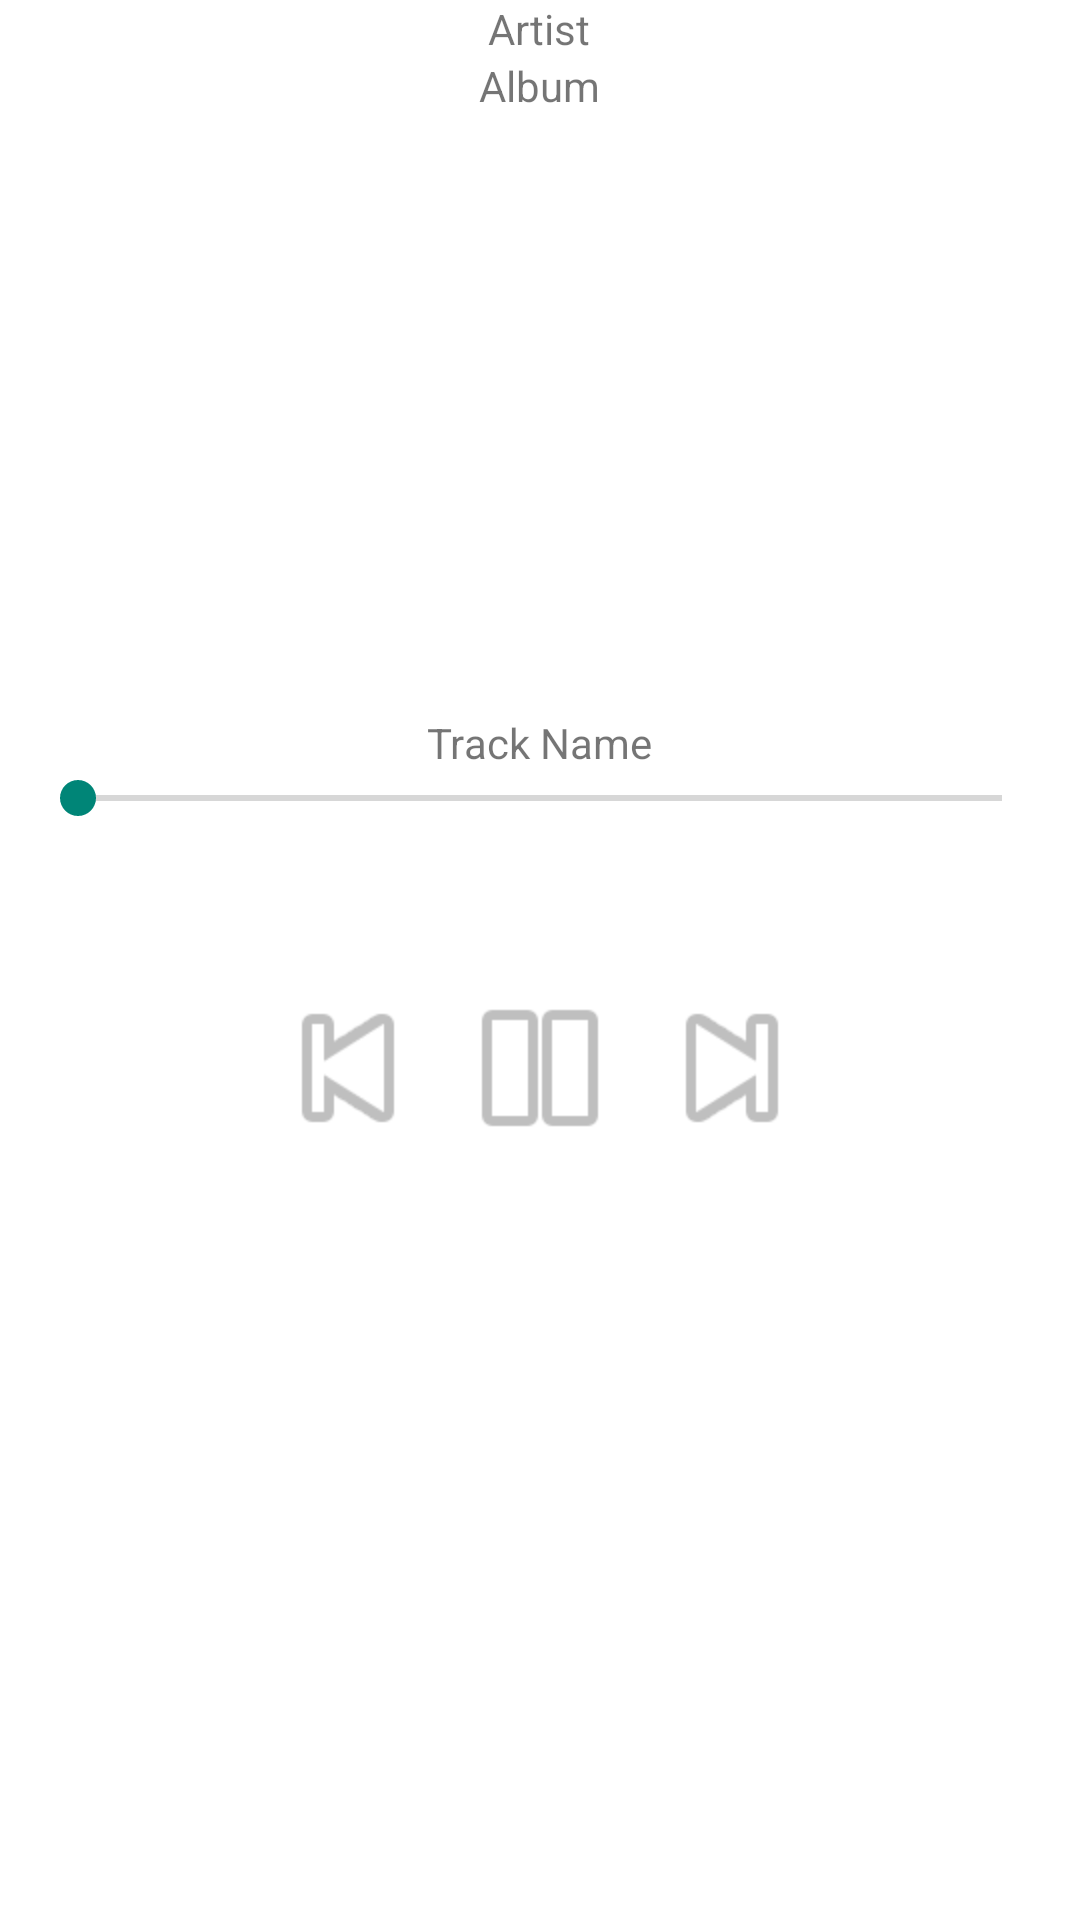

Where to tap for icons on this 1080 x 1920 app screen, as [x,y]:
next: [732,1068]
pause: [540,1068]
previous: [348,1068]
